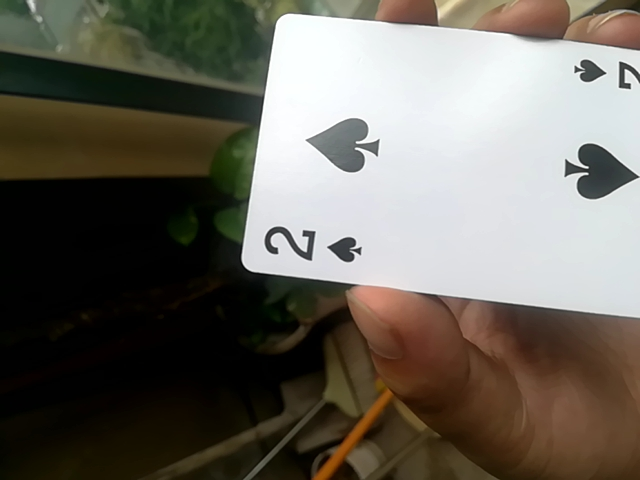ht 2: (236, 5, 639, 335)
